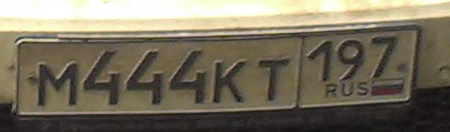character: (123, 44, 167, 110), (80, 47, 124, 108), (167, 48, 209, 108), (35, 59, 81, 111), (210, 58, 251, 108), (254, 56, 294, 105), (335, 37, 366, 83), (368, 36, 399, 81), (307, 37, 334, 85)
